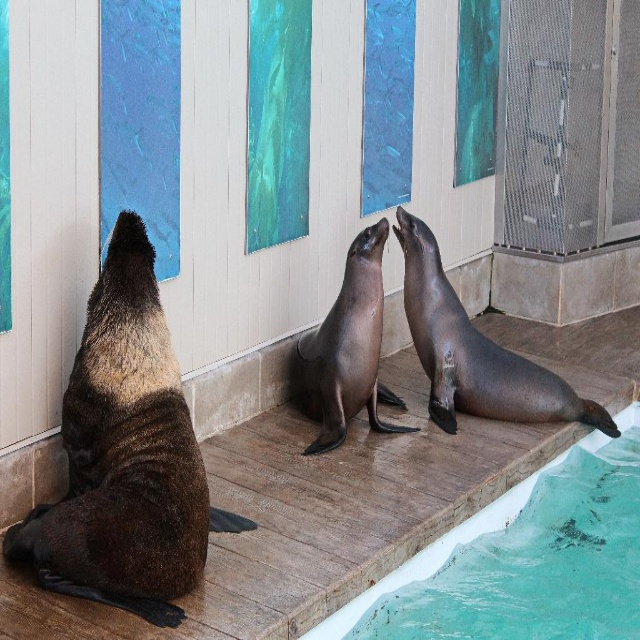Sea lion: (4, 207, 258, 623), (391, 208, 616, 438), (297, 218, 420, 459)
